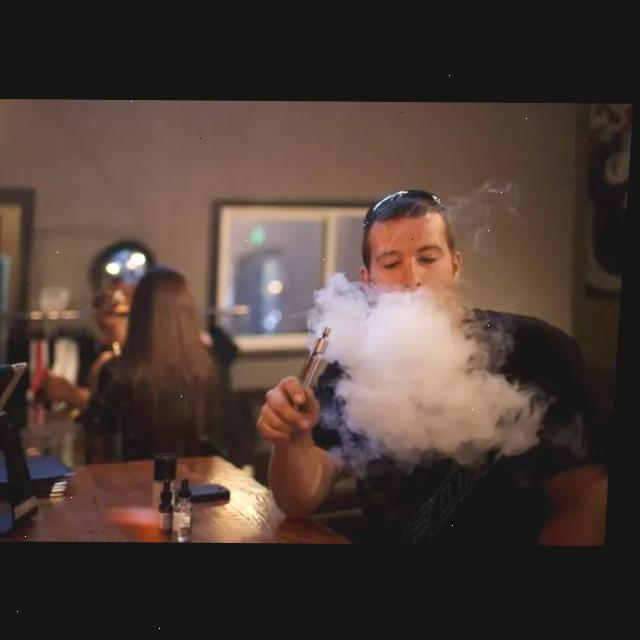vape: (301, 326, 337, 410)
